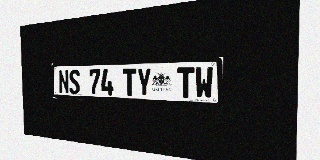4: (101, 69, 114, 95)
7: (88, 69, 101, 95)
N: (58, 70, 69, 94)
S: (69, 69, 80, 94)
T: (177, 67, 194, 98), (123, 68, 137, 96)
W: (195, 67, 213, 99)
Y: (137, 68, 152, 97)
